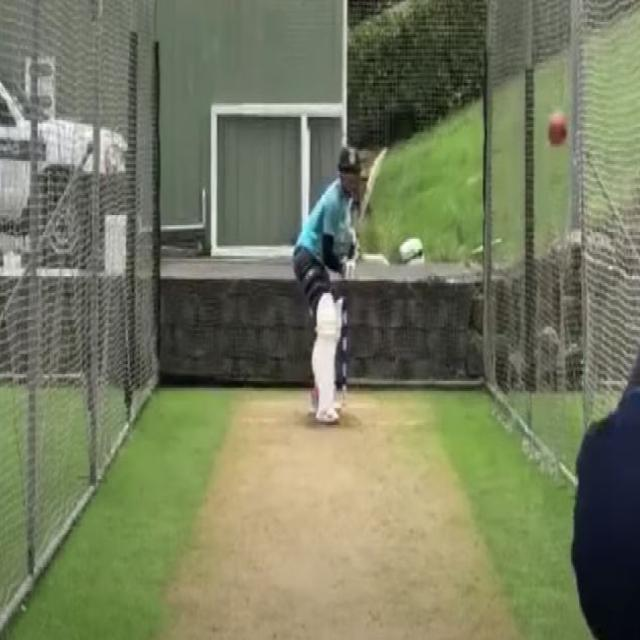ball: (544, 107, 570, 156)
